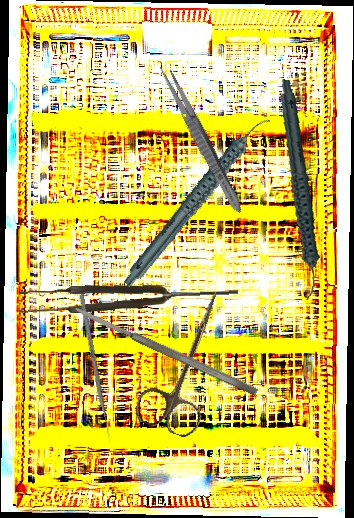Dressing Forceps: (154, 61, 248, 217)
Handpiece: (95, 114, 300, 289), (259, 79, 338, 301)
Iris Scissors: (131, 280, 244, 441)
Pusher: (78, 293, 113, 444)
Spatula Surgical: (73, 303, 259, 398)
Tissue Forceps: (18, 280, 239, 315)
